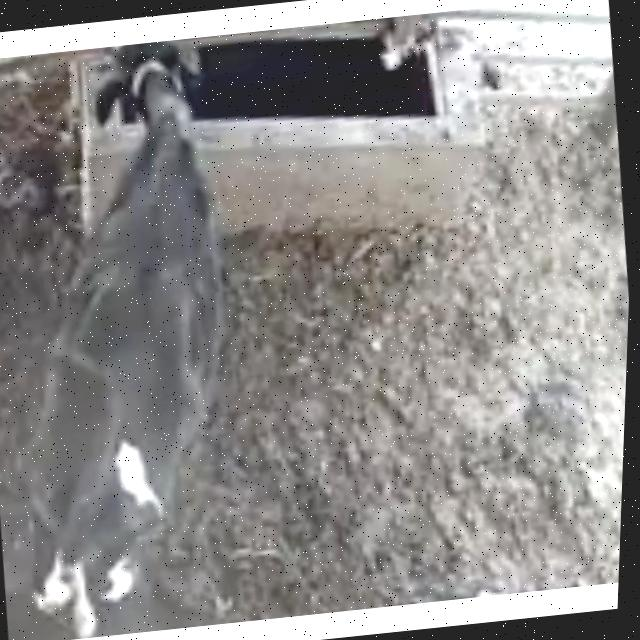drink: (58, 30, 284, 172)
